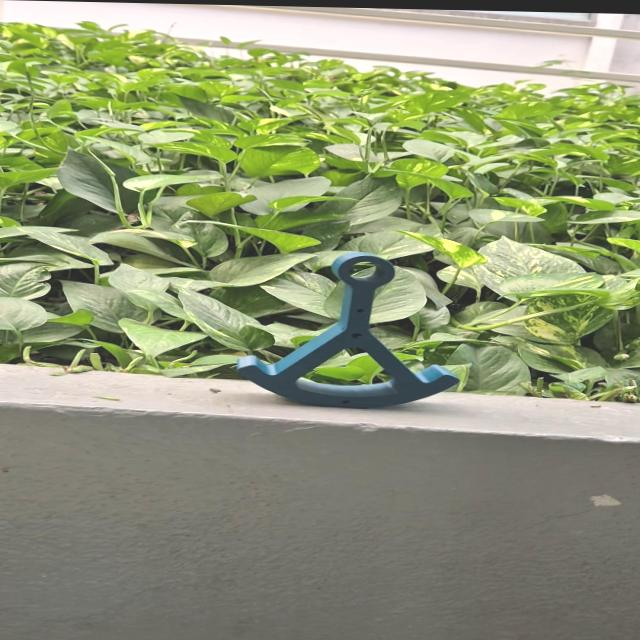haptic: (235, 249, 461, 412)
